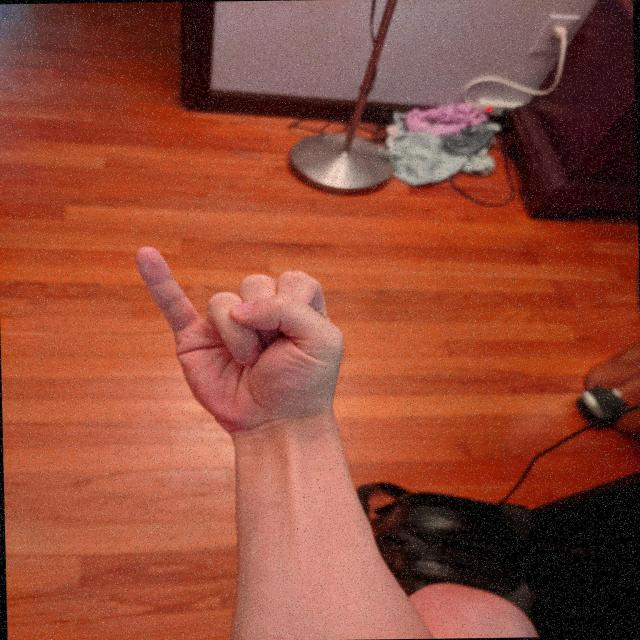I: (128, 240, 354, 442)
